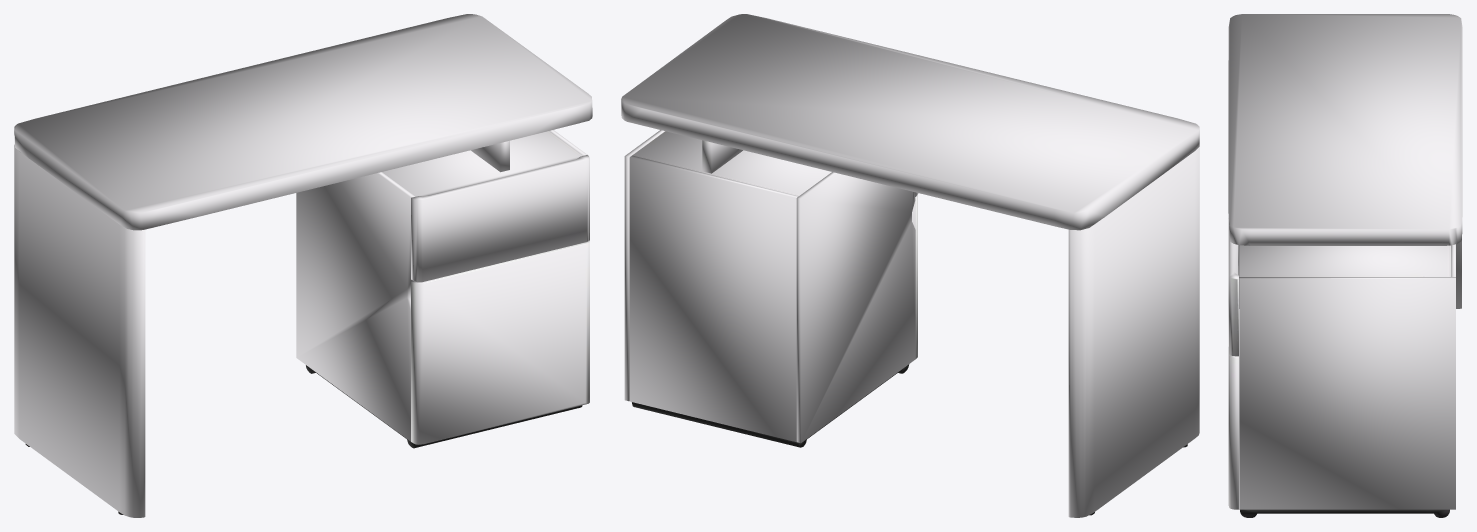
File: abo-B07K6N5FVX.glb
3 views of the same model, side by side, from view 1: azimuth 30°, elevation 25°; view 2: azimuth 150°, elevation 25°; view 3: azimuth 270°, elevation 25° (orthographic). The views are drawn at different scales.
Parts seen in each view (by area): view 1: B07K6N5FVX; view 2: B07K6N5FVX; view 3: B07K6N5FVX.
Part boxes in pixels (x1=…): B07K6N5FVX: x1=14, y1=14, x2=592, y2=517; B07K6N5FVX: x1=621, y1=14, x2=1199, y2=517; B07K6N5FVX: x1=1228, y1=14, x2=1462, y2=517.
Size of the model in its own units: 1.2 by 0.7595 by 0.5491.
Materials: 1 (1 with a texture image).
